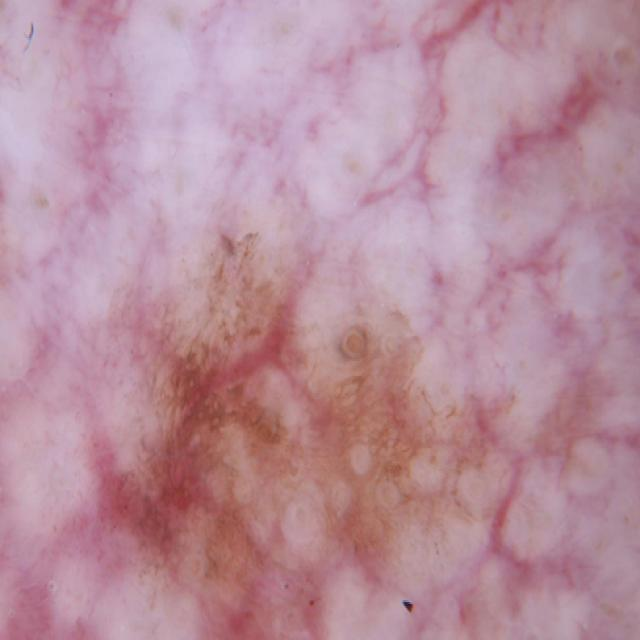Carcinoma: (68, 184, 548, 640)
